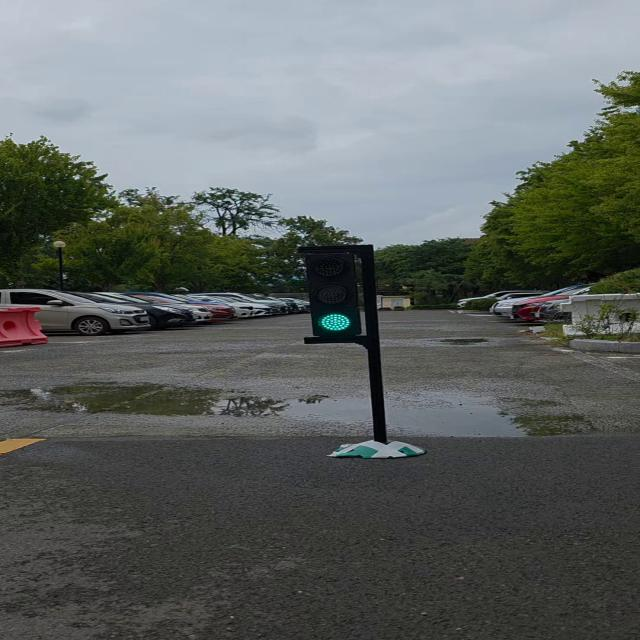green: (296, 244, 376, 343)
